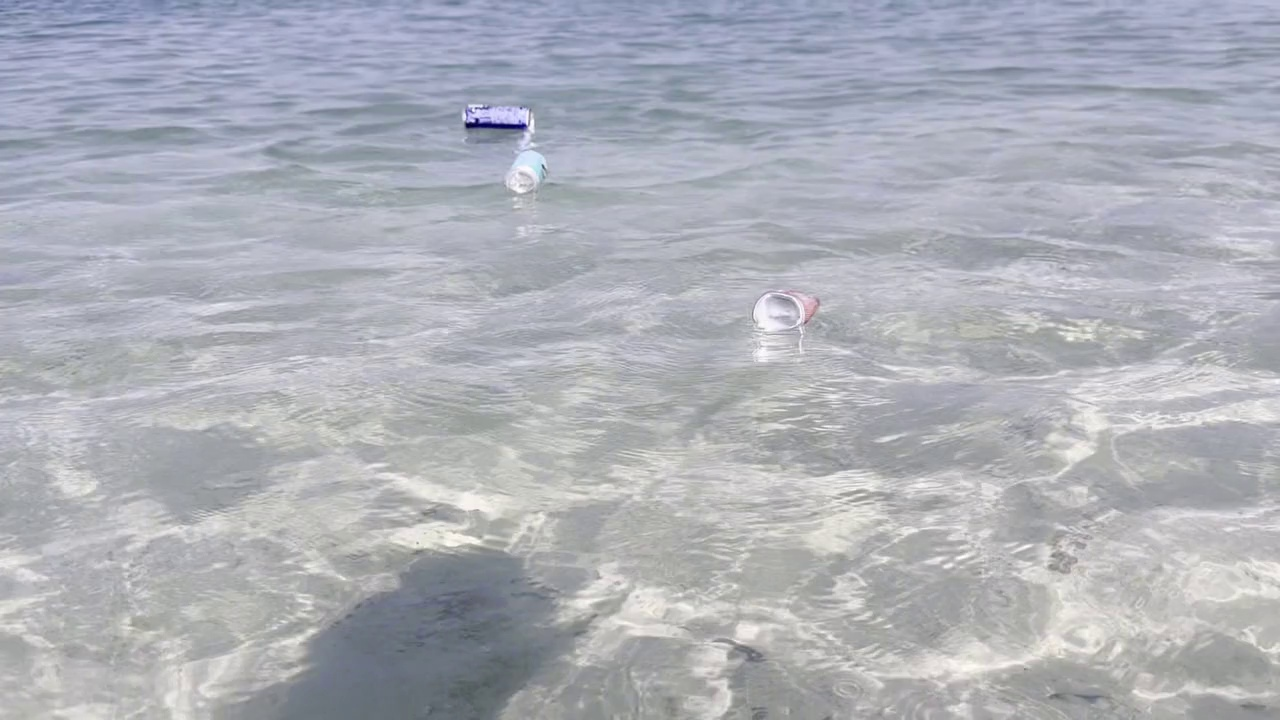debris: (748, 284, 825, 335), (456, 100, 534, 132), (500, 147, 550, 193)
